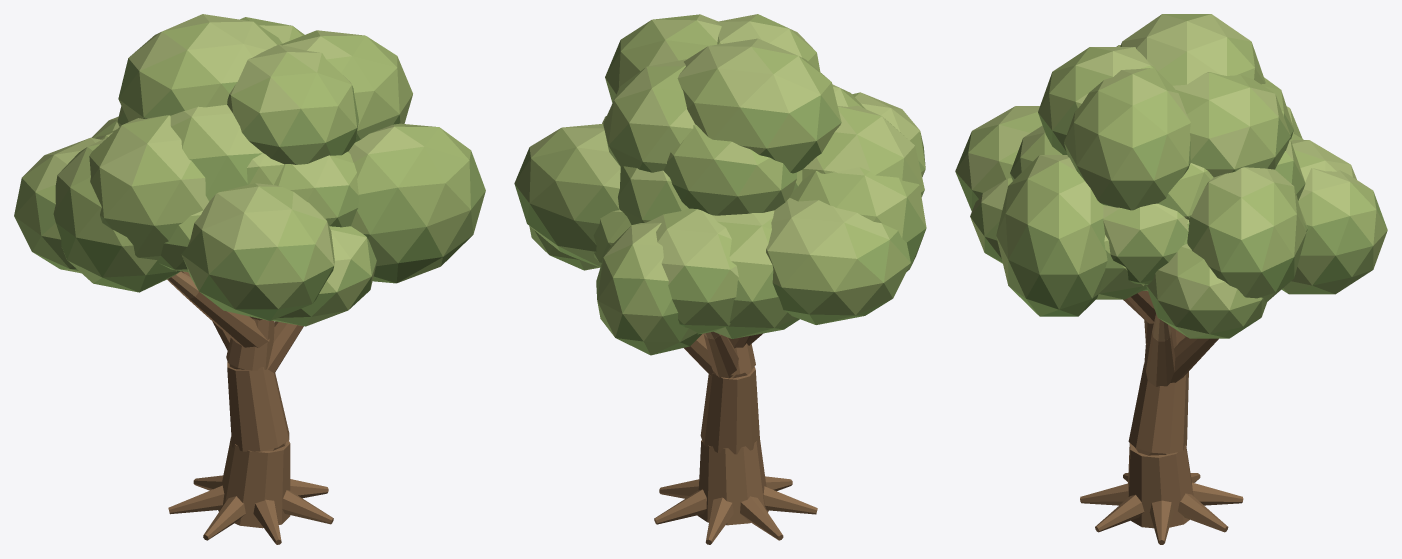
The model's file is tree_oak.glb.
3 renders of one model, left to right at view 1: azimuth 30°, elevation 25°; view 2: azimuth 150°, elevation 25°; view 3: azimuth 270°, elevation 25°, orthographic. The views are drawn at different scales.
Visible parts, largest first — view 1: Oak • branches and canopy; view 2: Oak • branches and canopy; view 3: Oak • branches and canopy.
Boxes of the visible parts, <box> form: Oak • branches and canopy: <box>14,14,485,544</box>; Oak • branches and canopy: <box>514,14,926,544</box>; Oak • branches and canopy: <box>955,14,1387,544</box>.
Size of the model in its own units: 4.3 by 5.44 by 4.45.
